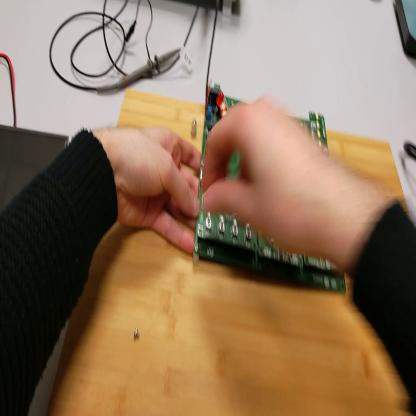hand: (199, 96, 338, 254), (107, 122, 206, 259)
low voltage board: (195, 86, 345, 297)
oscilloscope probe tip: (99, 45, 184, 93)
welder station: (395, 2, 416, 59)
working area: (49, 92, 416, 416)
